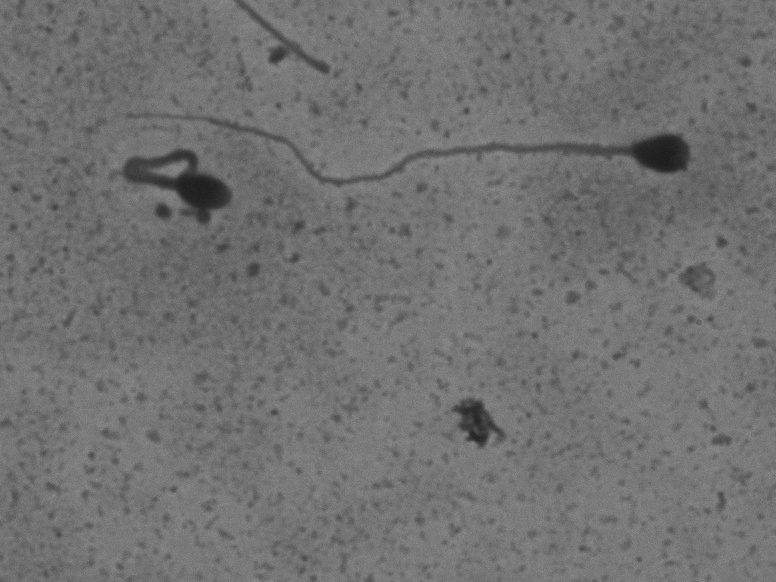Abnormal: (107, 96, 732, 201), (111, 141, 240, 240)
